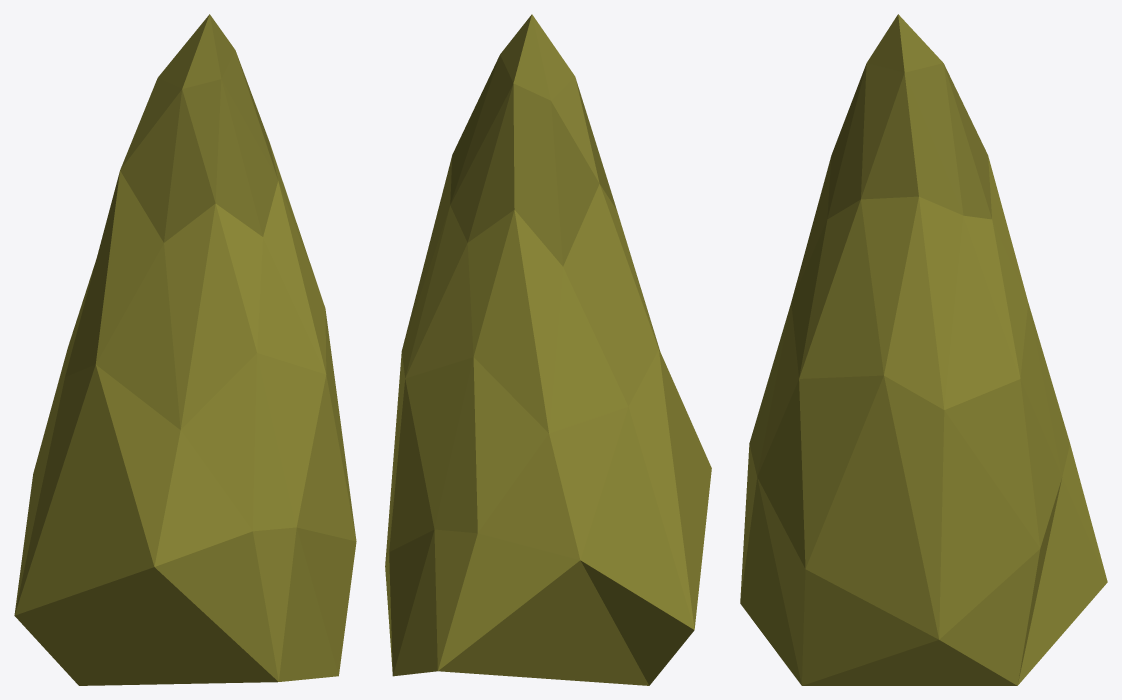
Rendered from Tree_6_Yellow.fbx.
3 views of the same model, side by side, from view 1: azimuth 30°, elevation 25°; view 2: azimuth 150°, elevation 25°; view 3: azimuth 270°, elevation 25° (orthographic).
Parts seen in each view (by area): view 1: Tree_6_Yellow; view 2: Tree_6_Yellow; view 3: Tree_6_Yellow.
Boxes of the visible parts, x1,y1,x2,y2 form: Tree_6_Yellow: (14,14,356,685); Tree_6_Yellow: (385,14,711,685); Tree_6_Yellow: (740,14,1107,685).
Size of the model in its own units: 394 by 793 by 415.
